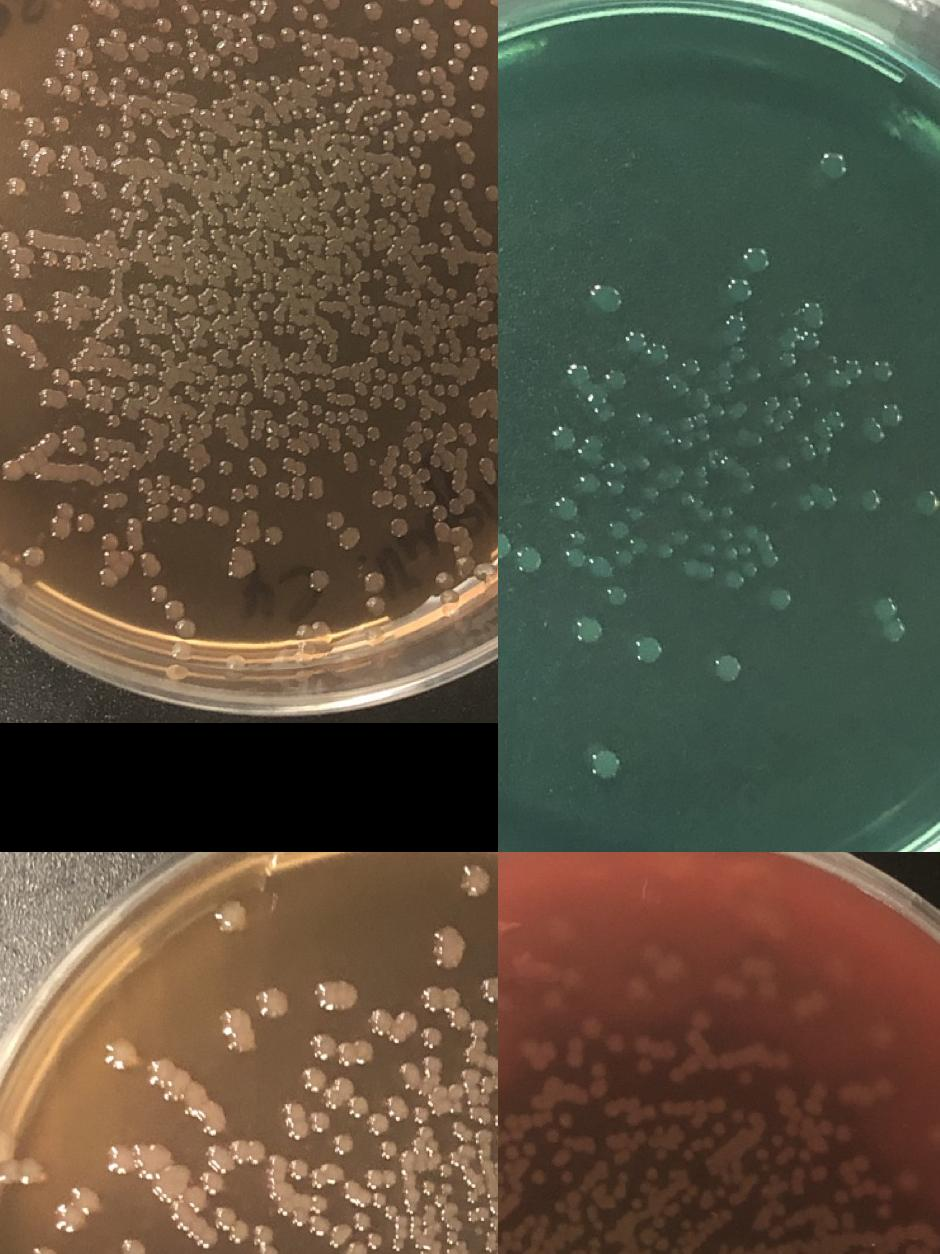pddamselae: (778, 304, 824, 366), (796, 410, 846, 464), (622, 328, 668, 368), (678, 387, 710, 443), (741, 524, 777, 566), (590, 368, 628, 402), (830, 358, 862, 391), (798, 487, 836, 510), (515, 547, 543, 575), (712, 655, 740, 683), (591, 284, 618, 312), (591, 750, 618, 778), (778, 396, 802, 426), (728, 276, 752, 304), (732, 466, 754, 496), (550, 496, 575, 522), (682, 559, 712, 580), (550, 426, 574, 452), (565, 363, 589, 389), (575, 618, 599, 644), (582, 434, 606, 460), (589, 556, 613, 582), (606, 518, 630, 544), (634, 636, 658, 662), (744, 248, 768, 274), (822, 151, 846, 177), (578, 470, 600, 497), (564, 546, 586, 572), (606, 582, 628, 606), (724, 315, 746, 337), (768, 588, 790, 610), (788, 369, 810, 391), (858, 489, 880, 511), (870, 360, 892, 382), (874, 599, 896, 621), (878, 404, 900, 426), (915, 492, 937, 514), (770, 453, 792, 474), (862, 423, 884, 444), (884, 622, 903, 642), (498, 532, 509, 560), (660, 470, 678, 487), (682, 360, 699, 377), (632, 456, 650, 472), (696, 506, 714, 522), (627, 505, 644, 521), (642, 486, 659, 502), (664, 373, 680, 390), (608, 459, 624, 475), (608, 480, 624, 496), (632, 537, 648, 553), (672, 528, 688, 544), (678, 492, 694, 508), (690, 465, 706, 481), (698, 541, 714, 557), (716, 505, 732, 521), (716, 528, 732, 544), (720, 548, 736, 564), (728, 348, 744, 364), (742, 562, 758, 578), (746, 367, 762, 383), (656, 546, 674, 560), (638, 410, 653, 426), (731, 402, 746, 418), (766, 396, 781, 412), (714, 382, 731, 396), (725, 574, 742, 588), (678, 437, 692, 453), (710, 404, 724, 420), (746, 432, 760, 448), (618, 552, 632, 566), (738, 544, 752, 558)
sinniae: (138, 1054, 232, 1138), (344, 1093, 408, 1163), (212, 1206, 274, 1249), (358, 1164, 398, 1220), (420, 1163, 453, 1209), (348, 1207, 380, 1251), (225, 1137, 269, 1167), (254, 984, 290, 1018), (101, 1037, 136, 1071), (101, 1144, 136, 1178), (212, 900, 247, 934), (303, 1028, 336, 1063), (51, 1201, 84, 1235), (472, 971, 498, 1006), (435, 982, 461, 1016), (464, 1015, 491, 1043), (197, 1168, 223, 1196), (302, 1065, 328, 1093), (304, 1108, 330, 1136), (328, 1130, 354, 1158), (418, 1026, 444, 1054), (286, 1158, 308, 1180), (490, 1094, 498, 1148), (119, 1238, 145, 1254), (308, 1194, 326, 1216), (464, 1209, 479, 1225), (444, 1230, 458, 1246), (412, 1108, 426, 1122), (482, 1242, 496, 1252)
vangil: (228, 507, 260, 578), (310, 403, 368, 435), (43, 423, 88, 456), (440, 171, 475, 213), (170, 502, 229, 526), (290, 0, 340, 22), (364, 355, 400, 384), (463, 340, 498, 369), (112, 114, 136, 156), (452, 19, 487, 47), (420, 374, 460, 398), (834, 1180, 875, 1203), (172, 620, 194, 661), (118, 208, 149, 237), (242, 73, 282, 94), (49, 502, 72, 538), (80, 375, 102, 411), (446, 42, 470, 75), (122, 65, 150, 90), (228, 482, 260, 503), (196, 286, 216, 318), (36, 387, 66, 408), (452, 140, 476, 166), (262, 420, 280, 453), (109, 383, 138, 403), (467, 65, 489, 91), (100, 492, 129, 510), (280, 457, 306, 477), (457, 421, 477, 447), (306, 475, 324, 501), (464, 286, 488, 305), (246, 456, 266, 478), (0, 90, 20, 110), (2, 324, 22, 344), (2, 460, 22, 480), (2, 292, 22, 312), (2, 568, 22, 588), (5, 176, 25, 196), (23, 546, 43, 566), (24, 117, 44, 137), (41, 76, 61, 96), (98, 567, 118, 587), (140, 556, 160, 576), (226, 654, 246, 674), (308, 570, 328, 590), (324, 510, 344, 530), (362, 1, 382, 21), (364, 572, 384, 592), (365, 596, 385, 616), (388, 518, 408, 538), (434, 570, 454, 590), (454, 556, 474, 576), (318, 74, 335, 96), (476, 322, 498, 339), (76, 514, 94, 534), (147, 584, 167, 602), (164, 600, 182, 620), (264, 526, 282, 546), (304, 332, 324, 350), (342, 525, 360, 545), (342, 451, 358, 473), (90, 181, 108, 200), (168, 334, 186, 353), (10, 263, 28, 281), (32, 308, 50, 326), (50, 368, 68, 386), (51, 115, 69, 133), (60, 189, 78, 207), (62, 86, 80, 104), (74, 47, 92, 65), (80, 69, 98, 87), (94, 122, 112, 140), (102, 2, 120, 20), (104, 412, 122, 430), (108, 26, 126, 44), (132, 46, 150, 64), (154, 17, 172, 35), (189, 475, 207, 493), (198, 8, 216, 26), (216, 459, 234, 477), (257, 32, 275, 50), (272, 482, 290, 500), (278, 26, 296, 44), (310, 12, 328, 30), (392, 26, 410, 44), (468, 100, 486, 118), (476, 457, 494, 475), (272, 302, 288, 322), (24, 228, 42, 245), (40, 251, 58, 268), (415, 67, 432, 85), (417, 88, 435, 105), (481, 185, 498, 203), (337, 70, 350, 93), (286, 248, 307, 262), (61, 254, 79, 270), (272, 324, 296, 336), (132, 363, 154, 376), (158, 214, 177, 228), (328, 133, 350, 145), (296, 66, 318, 77), (486, 436, 498, 454), (213, 330, 228, 344), (222, 68, 236, 82), (298, 378, 312, 392), (330, 56, 344, 70), (332, 101, 346, 115), (350, 434, 364, 448), (354, 69, 368, 83), (360, 114, 374, 128), (366, 427, 380, 441), (407, 450, 421, 464), (418, 406, 432, 420), (421, 427, 435, 441), (425, 241, 439, 255), (445, 287, 459, 301), (544, 1130, 558, 1144), (560, 1113, 574, 1127), (592, 1064, 606, 1078), (646, 1168, 660, 1182), (713, 1185, 727, 1199), (720, 1208, 734, 1222), (770, 1134, 784, 1148), (771, 1204, 785, 1218), (856, 1158, 870, 1172), (138, 113, 152, 126), (154, 81, 168, 94), (294, 399, 308, 412), (367, 396, 381, 409), (370, 267, 383, 281), (398, 465, 412, 478), (406, 211, 419, 225), (438, 221, 451, 235), (447, 263, 460, 277), (485, 251, 498, 264), (108, 208, 122, 220), (136, 337, 150, 349), (239, 392, 253, 404), (247, 0, 261, 12), (250, 329, 264, 341), (264, 127, 278, 139), (392, 398, 406, 410), (392, 496, 406, 508), (606, 1136, 618, 1150), (638, 1059, 650, 1073), (756, 1150, 770, 1162), (812, 1168, 826, 1180), (818, 1120, 832, 1132), (443, 0, 463, 8), (141, 297, 154, 309), (251, 118, 264, 130), (256, 310, 269, 322), (273, 392, 286, 404), (288, 352, 301, 364), (292, 126, 305, 138), (324, 392, 337, 404), (328, 119, 341, 131), (118, 344, 130, 356), (129, 196, 141, 208), (143, 385, 155, 397), (150, 344, 162, 356), (175, 284, 187, 296), (196, 338, 208, 350), (203, 143, 215, 155), (214, 193, 226, 205), (216, 226, 228, 238), (217, 375, 229, 387), (226, 339, 238, 351), (235, 373, 247, 385), (271, 256, 283, 268), (282, 137, 294, 149), (284, 152, 296, 164), (299, 165, 311, 177), (300, 43, 312, 55), (312, 49, 324, 61), (344, 119, 356, 131), (358, 134, 370, 146), (359, 185, 371, 197), (798, 1150, 810, 1162), (498, 1245, 507, 1254), (414, 0, 433, 4)
